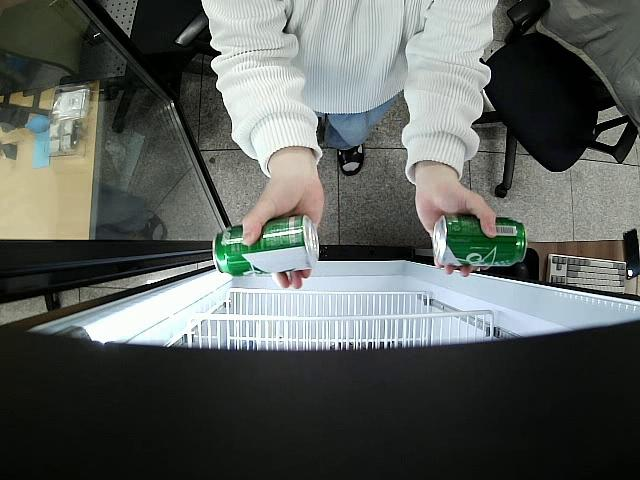00_hand: (242, 172, 326, 288), (413, 175, 497, 277)
12_chilsungCider: (211, 216, 317, 279), (431, 214, 529, 268)
